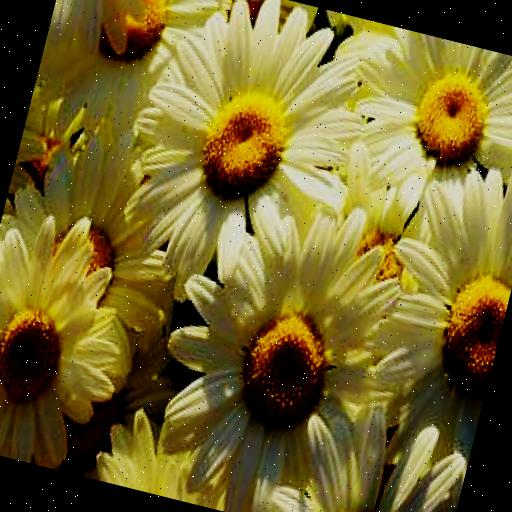daisy: (136, 201, 416, 512), (113, 0, 360, 287), (0, 213, 129, 473), (275, 410, 469, 512)
